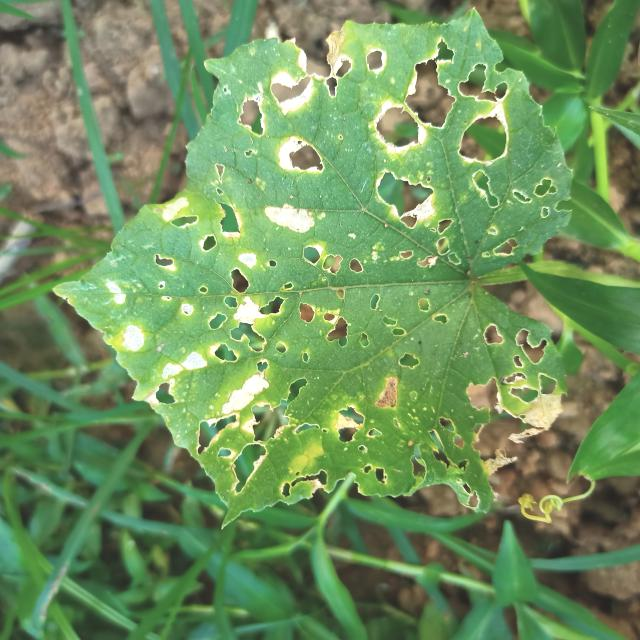disease_cucumber: (144, 44, 555, 468)
